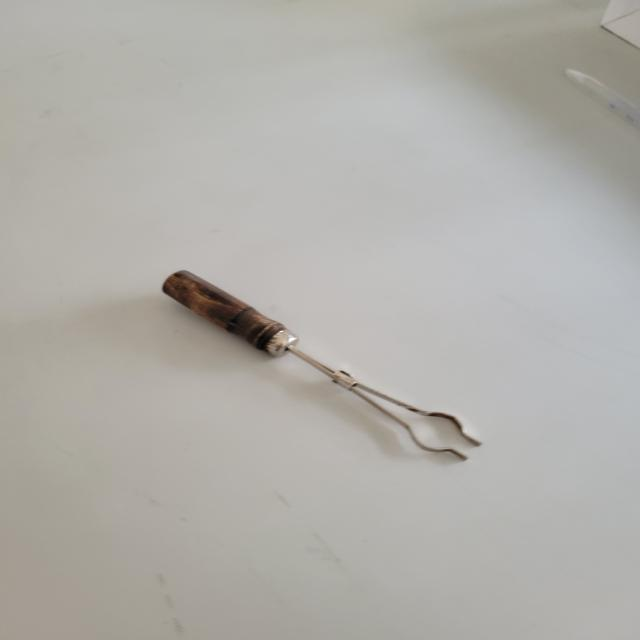TestTube_Holder: (140, 250, 494, 508)
